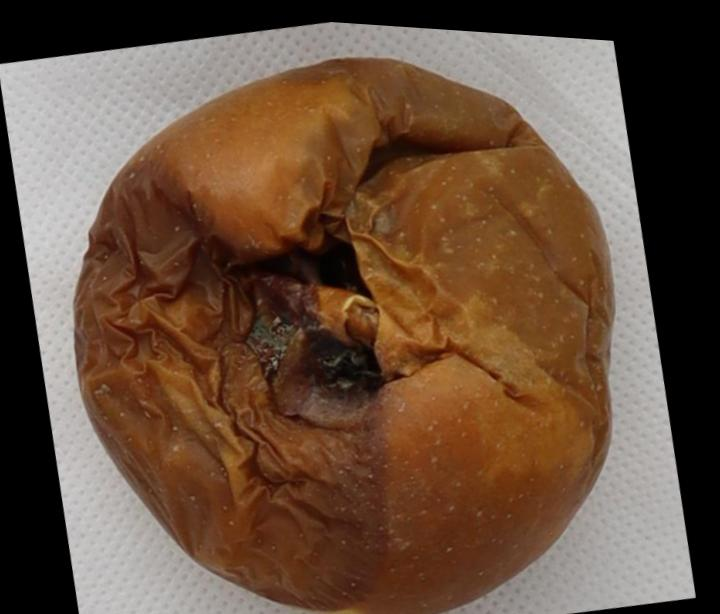apple: (76, 58, 613, 614)
rot_mold_decay: (75, 58, 614, 614)
